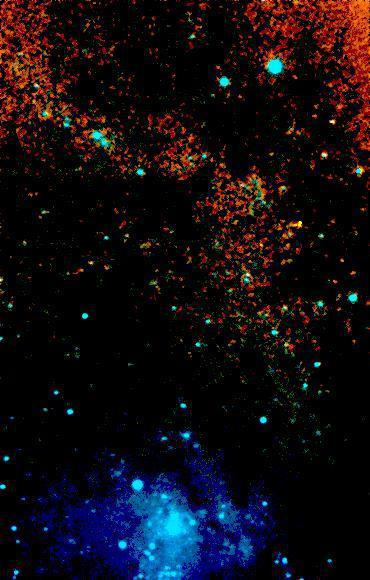star: (282, 209, 312, 239)
